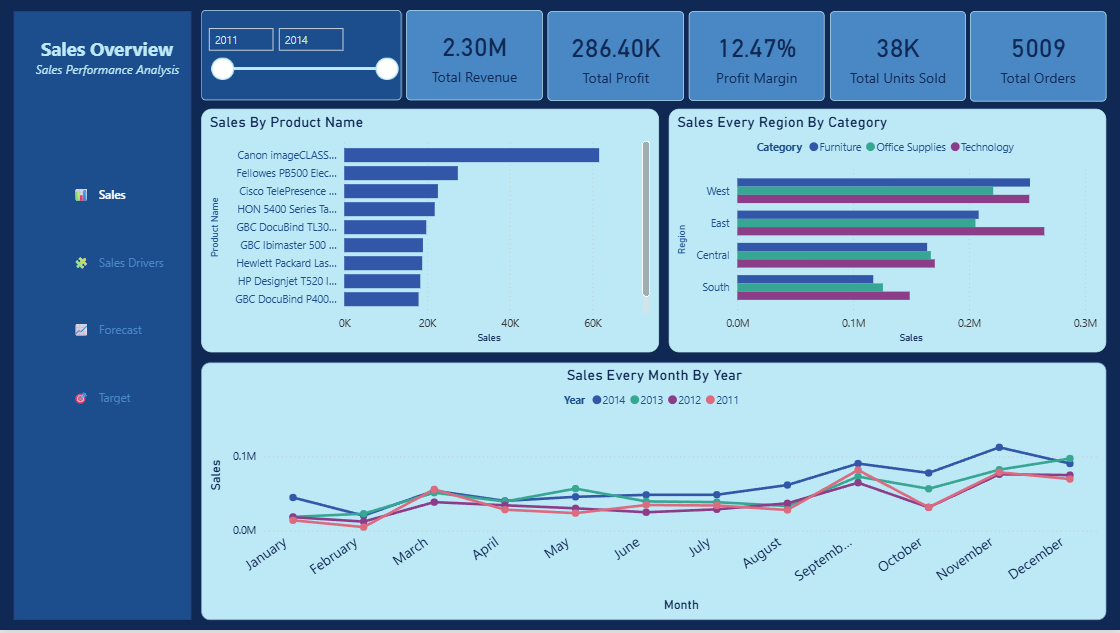

What the dashboard file says about the page in this screenshot:
{"tool":"powerbi","page":{"name":"📊   Sales","canvas":[1280,720],"ordinal":0},"visuals":[{"type":"card","fields":{"Values":["Sum(fact_sales.sales)"]},"box":[468.6,12.9,135.7,102.9],"z":0},{"type":"card","fields":{"Values":["dim_customer.Total Orders"]},"box":[764.3,12.9,135.7,102.9],"z":1000},{"type":"card","fields":{"Values":["Sum(fact_sales.profit)"]},"box":[617.1,12.9,135.7,102.9],"z":2000},{"type":"card","fields":{"Values":["Sum(fact_sales.quantity)"]},"box":[914.3,12.9,135.7,102.9],"z":3000},{"type":"clusteredBarChart","title":"Sales By Product Name","fields":{"Category":["dim_product.product_name"],"Y":["Sum(fact_sales.sales)"]},"box":[230,124.3,522.9,278.6],"z":4000},{"type":"clusteredBarChart","title":"Sales Every Region By Category","fields":{"Category":["dim_location.region"],"Y":["Sum(fact_sales.sales)"],"Series":["dim_product.category"]},"box":[764.3,124.3,500,278.6],"z":5000},{"type":"lineChart","title":"Sales Every Month By Year","fields":{"Category":["dim_date.month_name"],"Series":["dim_date.year"],"Y":["Sum(fact_sales.sales)"]},"box":[230,414.3,1034.3,294.3],"z":6000},{"type":"shape","box":[15.7,12.9,202.9,695.7],"z":7500},{"type":"textbox","box":[35.7,35.7,182.9,80],"z":7750},{"type":"slicer","fields":{"Values":["dim_date.year"]},"box":[230,12.9,222.9,102.9],"z":8000},{"type":"pageNavigator","box":[68.6,188.6,150,300],"z":9000},{"type":"card","fields":{"Values":["fact_sales.Profit Margin"]},"box":[1061.4,12.9,135.7,102.9],"z":9001}]}

Visuals, with their boxes in screenshot pixels (x1, y1, x2, y2), scaled from the page's 1280x720 canvas onto the 1120x633 screenshot:
card - Sum(fact_sales.sales): x1=410, y1=11, x2=529, y2=102
card - dim_customer.Total Orders: x1=669, y1=11, x2=788, y2=102
card - Sum(fact_sales.profit): x1=540, y1=11, x2=659, y2=102
card - Sum(fact_sales.quantity): x1=800, y1=11, x2=919, y2=102
"Sales By Product Name" clusteredBarChart: x1=201, y1=109, x2=659, y2=354
"Sales Every Region By Category" clusteredBarChart: x1=669, y1=109, x2=1106, y2=354
"Sales Every Month By Year" lineChart: x1=201, y1=364, x2=1106, y2=623
shape: x1=14, y1=11, x2=191, y2=623
textbox: x1=31, y1=31, x2=191, y2=102
slicer - dim_date.year: x1=201, y1=11, x2=396, y2=102
pageNavigator: x1=60, y1=166, x2=191, y2=430
card - fact_sales.Profit Margin: x1=929, y1=11, x2=1047, y2=102
